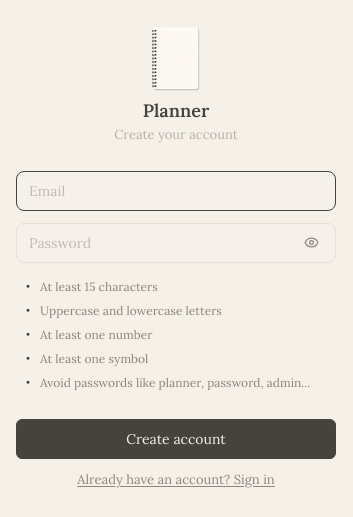
it: RegisterPage › shows EMAIL_IN_USE on the email field
Step 1. Type "new@example.com" into the field with placeholder "Email" → (176, 190), box top-left (29, 180), bottom-right (323, 200)
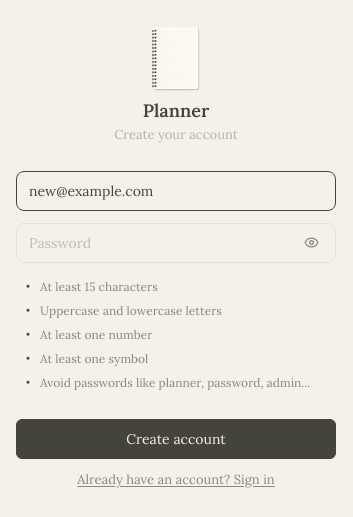
Step 2. Type "Correct-horse-battery-staple-2" into the password field with placeholder "Password" → (160, 242), box top-left (29, 232), bottom-right (291, 252)
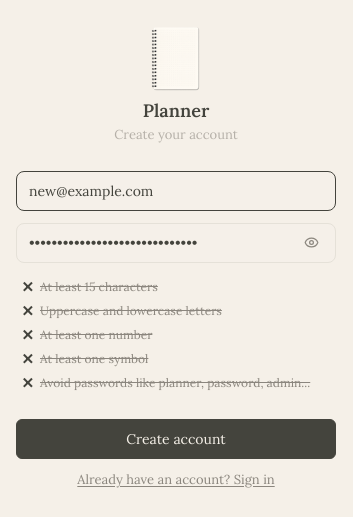
Step 3. Click the button "Create account" → (176, 438), box top-left (16, 418), bottom-right (336, 458)
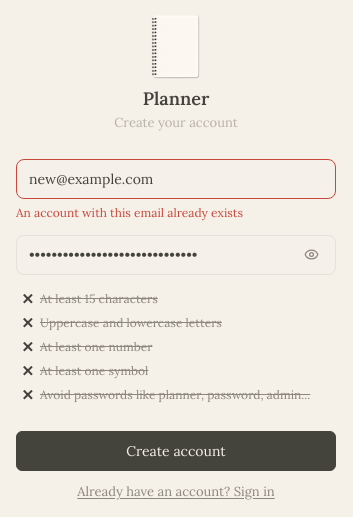
Expected: the text "An account with this email already exists" is shown, top-left (16, 204), bottom-right (243, 220)
